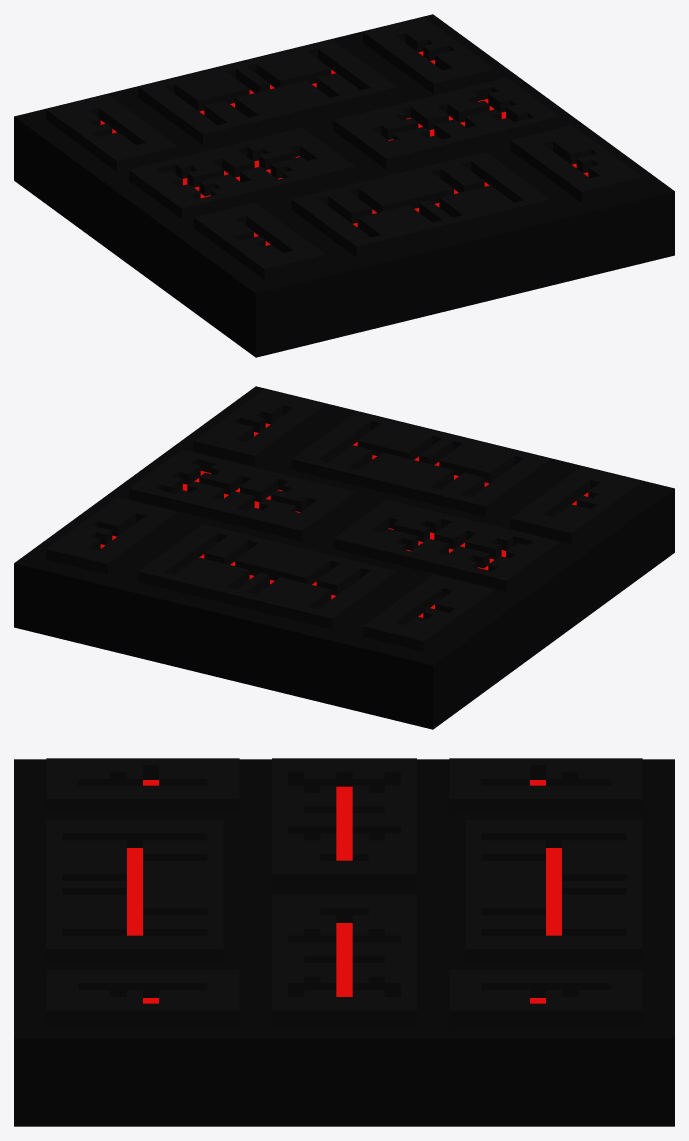
File: RuneFloor2.FBX
3 views of the same model, one above another, from view 1: azimuth 30°, elevation 25°; view 2: azimuth 150°, elevation 25°; view 3: azimuth 270°, elevation 25° (orthographic). The views are drawn at different scales.
Parts seen in each view (by area): view 1: default; view 2: default; view 3: default.
Boxes of the visible parts, <box> form: default: <box>14,14,674,357</box>; default: <box>14,386,674,729</box>; default: <box>14,758,674,1126</box>.
Bounding box in the file's own units: 41 × 41 × 7.
